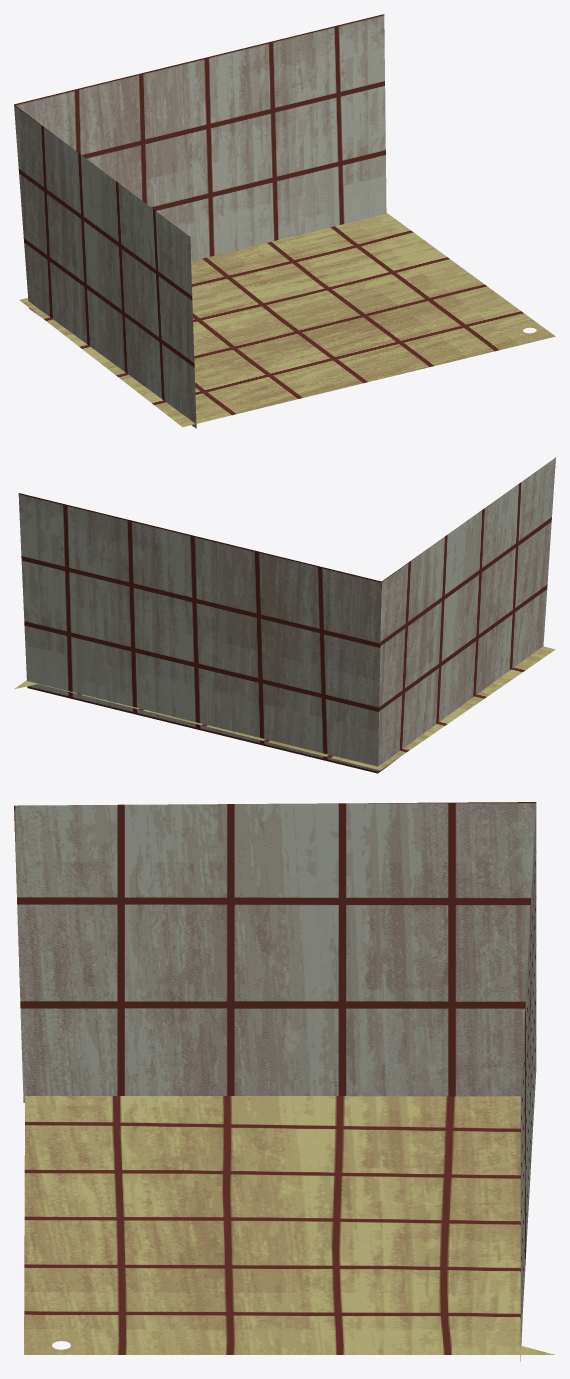
File: pig shower walls.obj
3 views of the same model, one above another, from view 1: azimuth 30°, elevation 25°; view 2: azimuth 150°, elevation 25°; view 3: azimuth 270°, elevation 25° (orthographic). The views are drawn at different scales.
Parts seen in each view (by area): view 1: polySurface1586, polySurface1473 polySurface1430; view 2: polySurface1586, polySurface1473 polySurface1430; view 3: polySurface1586, polySurface1473 polySurface1430.
Boxes of the visible parts, bbox=[...] form: polySurface1586: bbox=[14, 14, 386, 428]; polySurface1473 polySurface1430: bbox=[19, 213, 555, 427]; polySurface1586: bbox=[18, 457, 555, 773]; polySurface1473 polySurface1430: bbox=[15, 646, 555, 770]; polySurface1586: bbox=[14, 802, 536, 1361]; polySurface1473 polySurface1430: bbox=[24, 1096, 554, 1354].
Size of the model in its own units: 11.05 by 5.7 by 9.37.
Materials: 2 (2 with a texture image).
